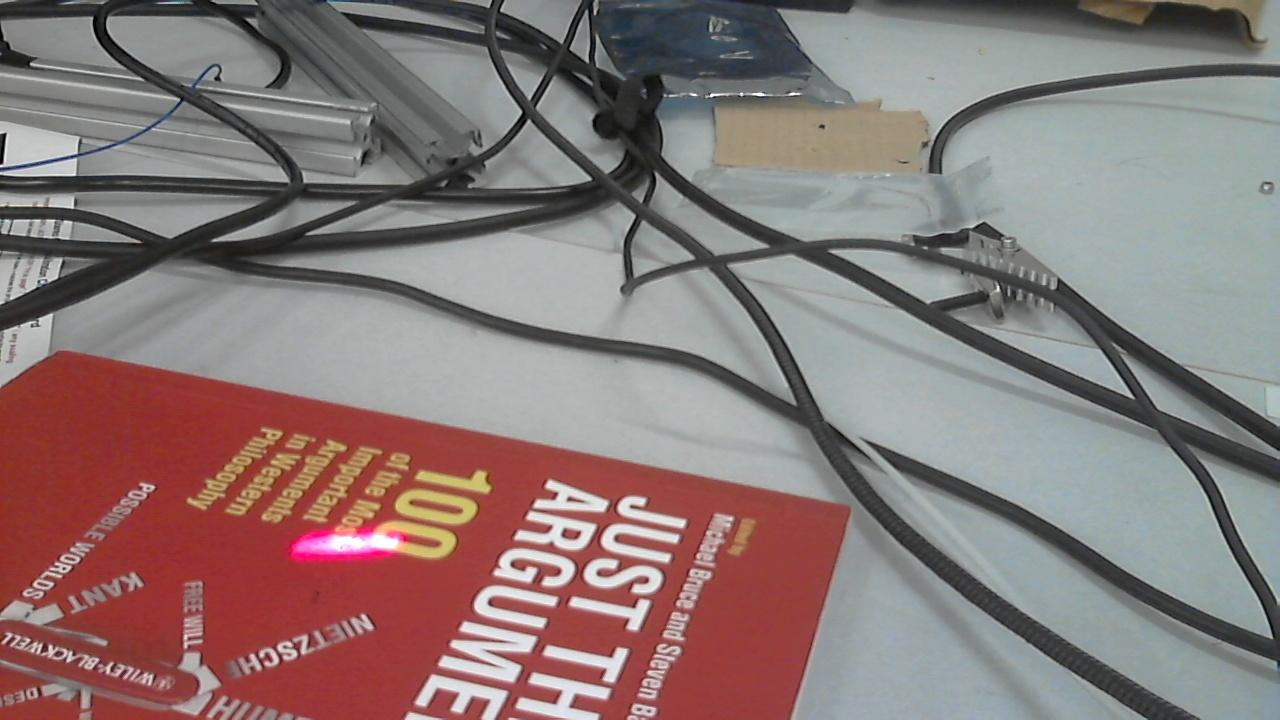Object book - Material paper - Color red - Pdfname QP9o9Hihi4G7: (269, 528, 419, 581)
